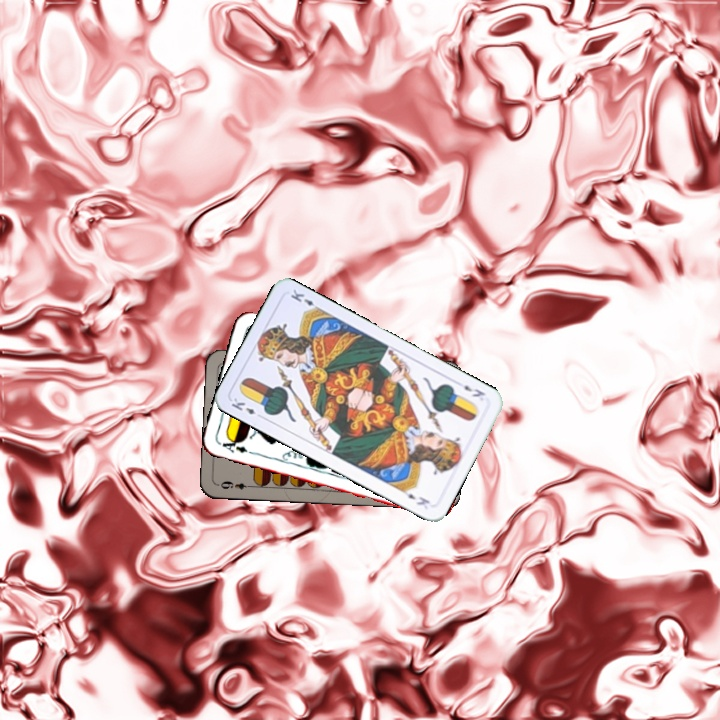E9: (215, 477, 255, 492)
EA: (216, 434, 250, 456)
EK: (227, 394, 266, 421), (460, 381, 488, 400)
